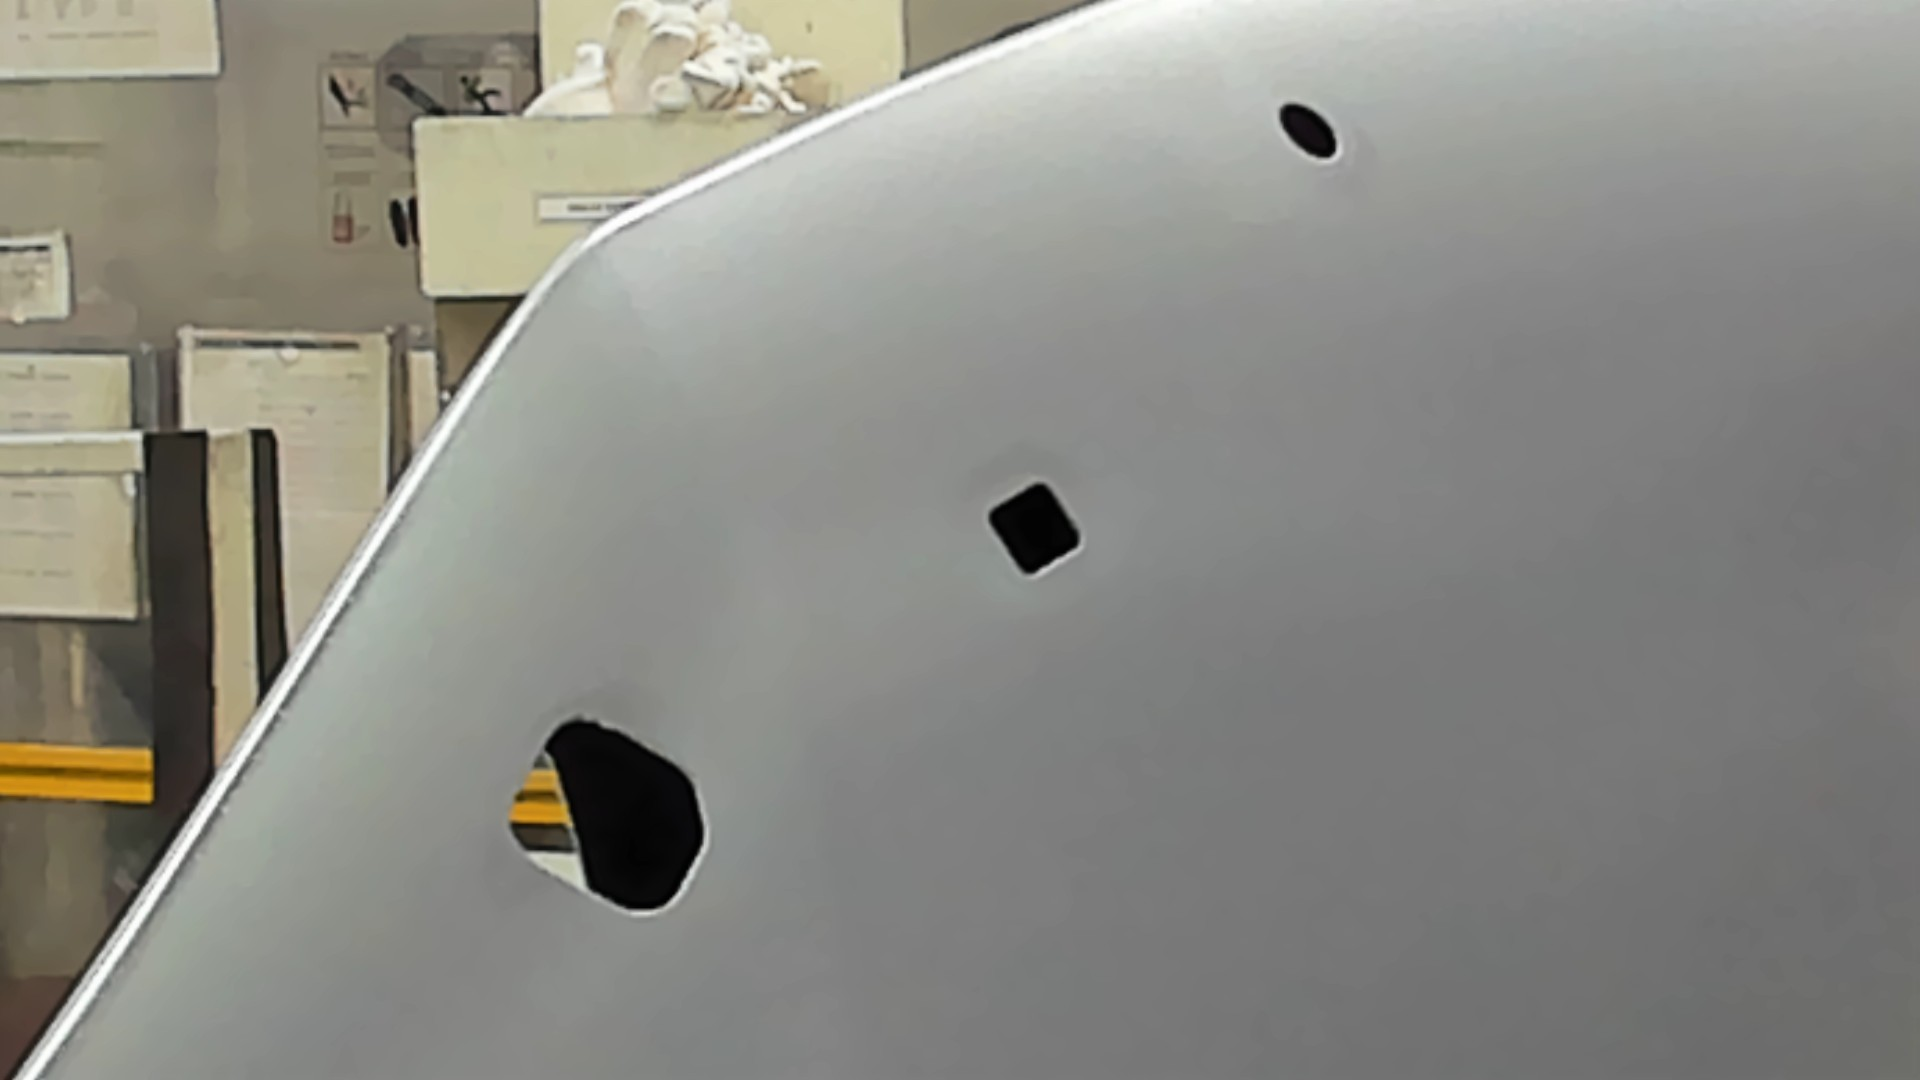capo: (1092, 174, 1920, 1080)
chico: (1271, 98, 1346, 165)
grande: (506, 704, 709, 924)
mediano: (978, 472, 1091, 585)
